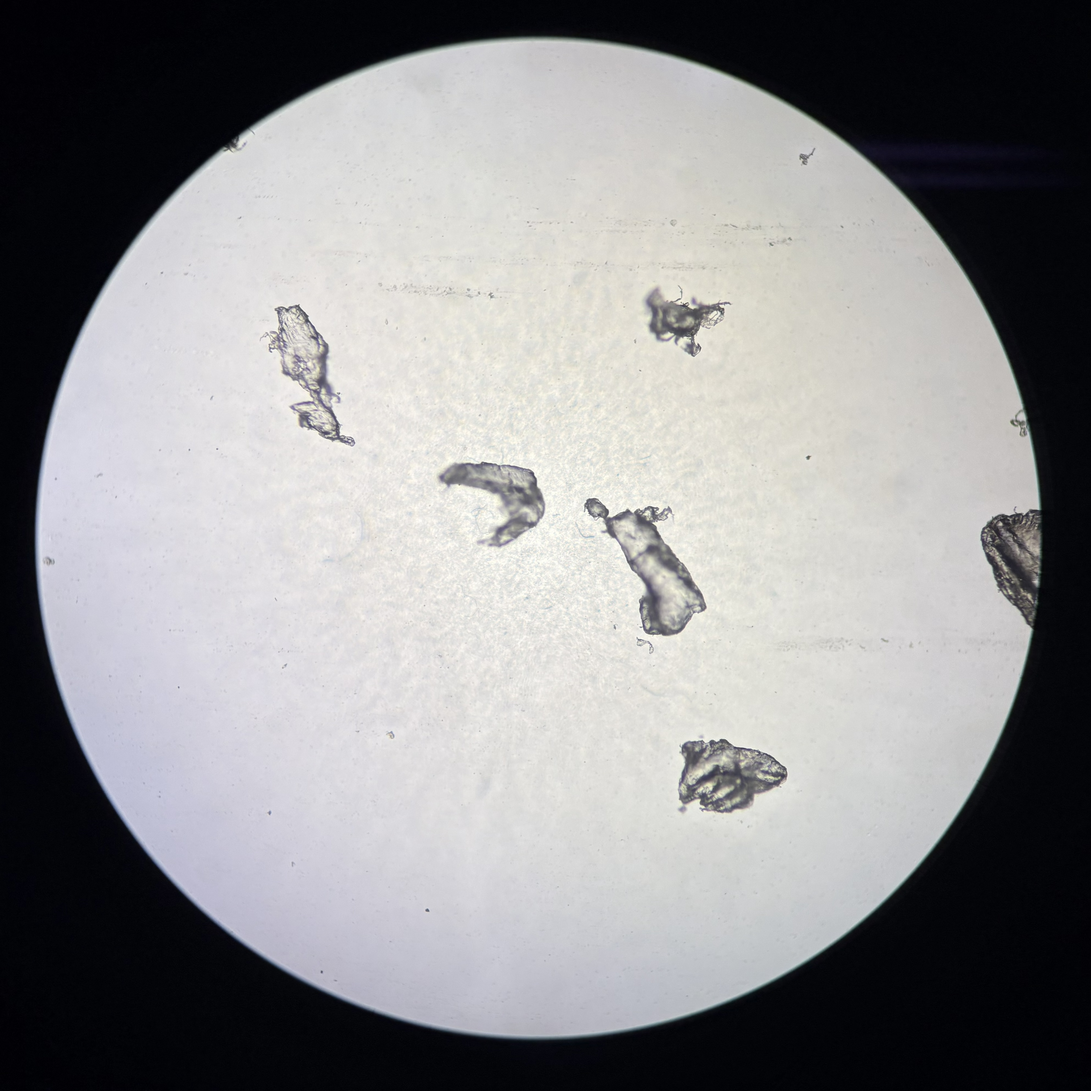microplastic: (583, 497, 707, 638), (262, 304, 354, 446), (440, 459, 547, 548), (678, 737, 787, 809), (981, 512, 1040, 636), (643, 285, 731, 357), (1010, 410, 1034, 435)
